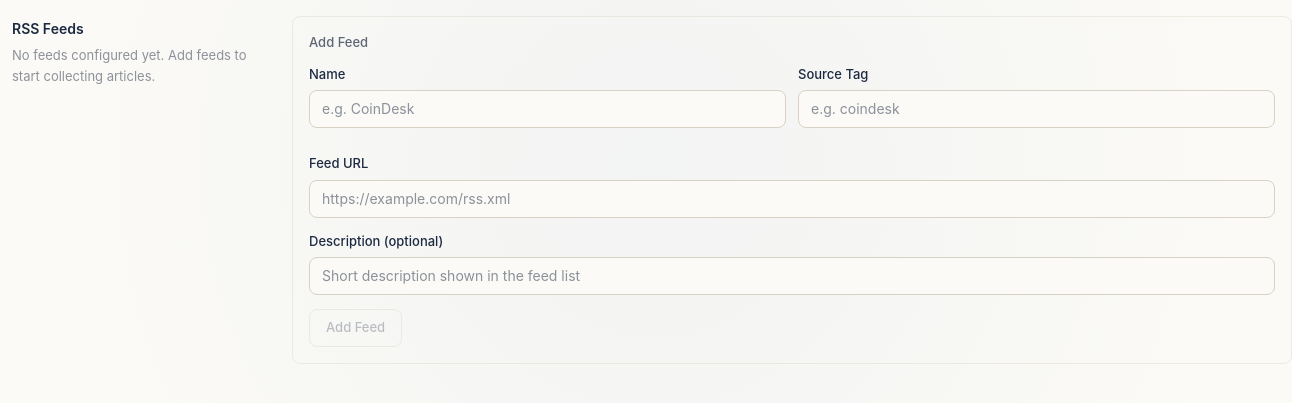
it: NewsCollectorPage feed editor › rejects an invalid feed URL before submitting the feed
The image size is (1292, 403).
In the field with placeholder "e.g. CoinDesk": (548, 109) [309, 90, 786, 128], type "Example Markets"
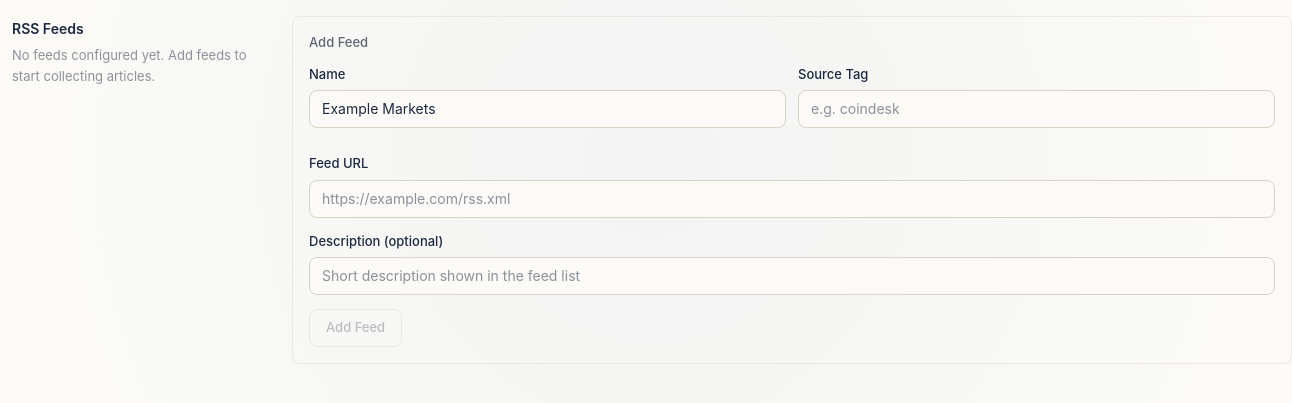
In the field with placeholder "e.g. coindesk": (1036, 109) [798, 90, 1275, 128], type "example-markets"
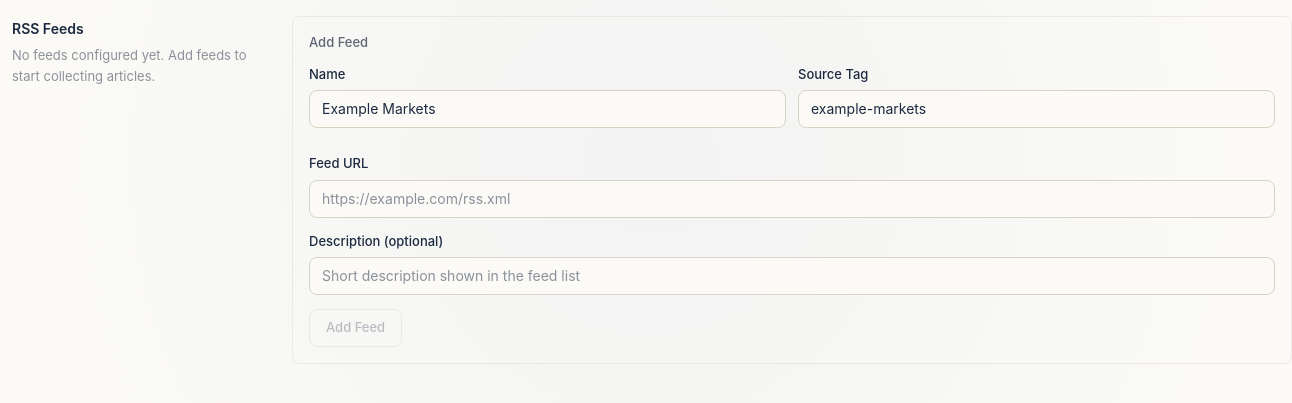
In the field with placeholder "https://example.com/rss.xml": (792, 198) [309, 180, 1275, 218], type "not-a-url"
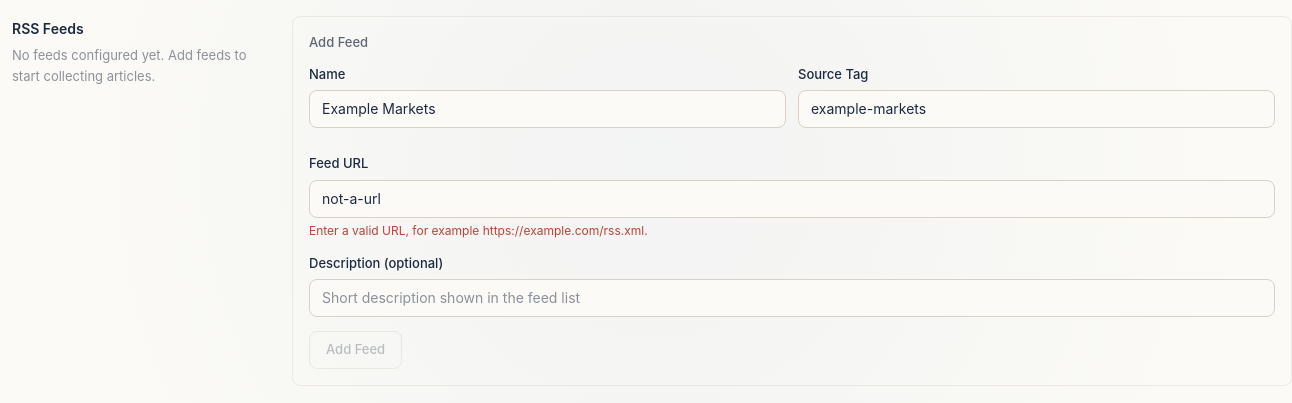
Check: the button "Add Feed" is disabled, box [309, 331, 402, 368]
Check: the message shows "Enter a valid URL", box [309, 222, 648, 238]
